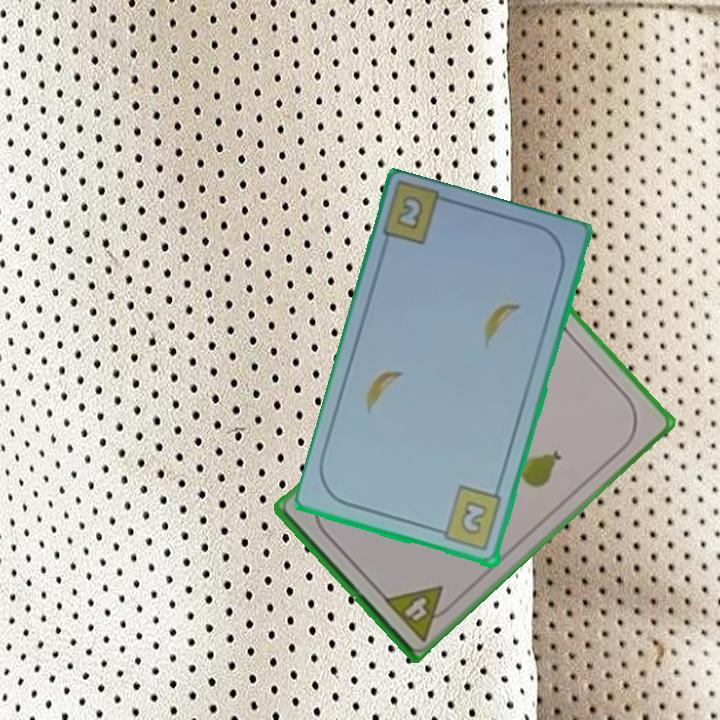2b: (432, 483, 505, 554), (393, 192, 427, 234)
4p: (379, 581, 458, 644)
